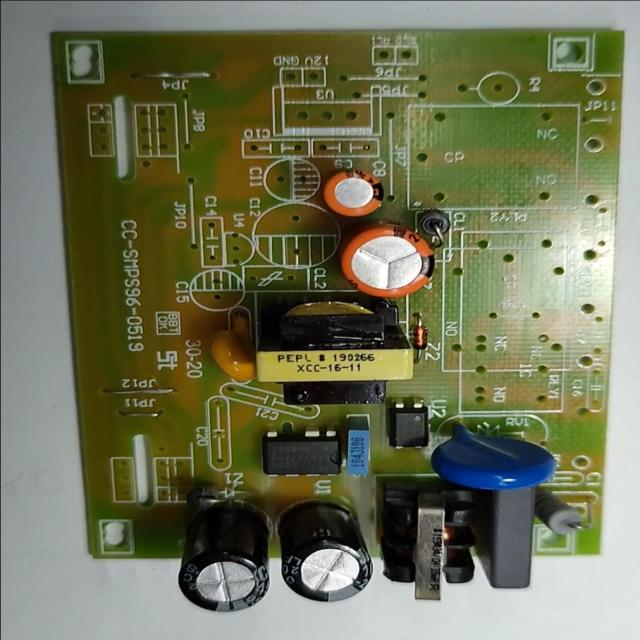Cap1: (338, 219, 434, 299)
Cap2: (318, 167, 388, 218)
Cap3: (276, 500, 375, 604)
Cap4: (176, 498, 268, 614)
MOSFET: (261, 429, 344, 478)
Mov: (428, 420, 559, 490)
Resistor: (534, 489, 584, 536)
Transformer: (249, 292, 414, 408), (382, 478, 476, 604)
